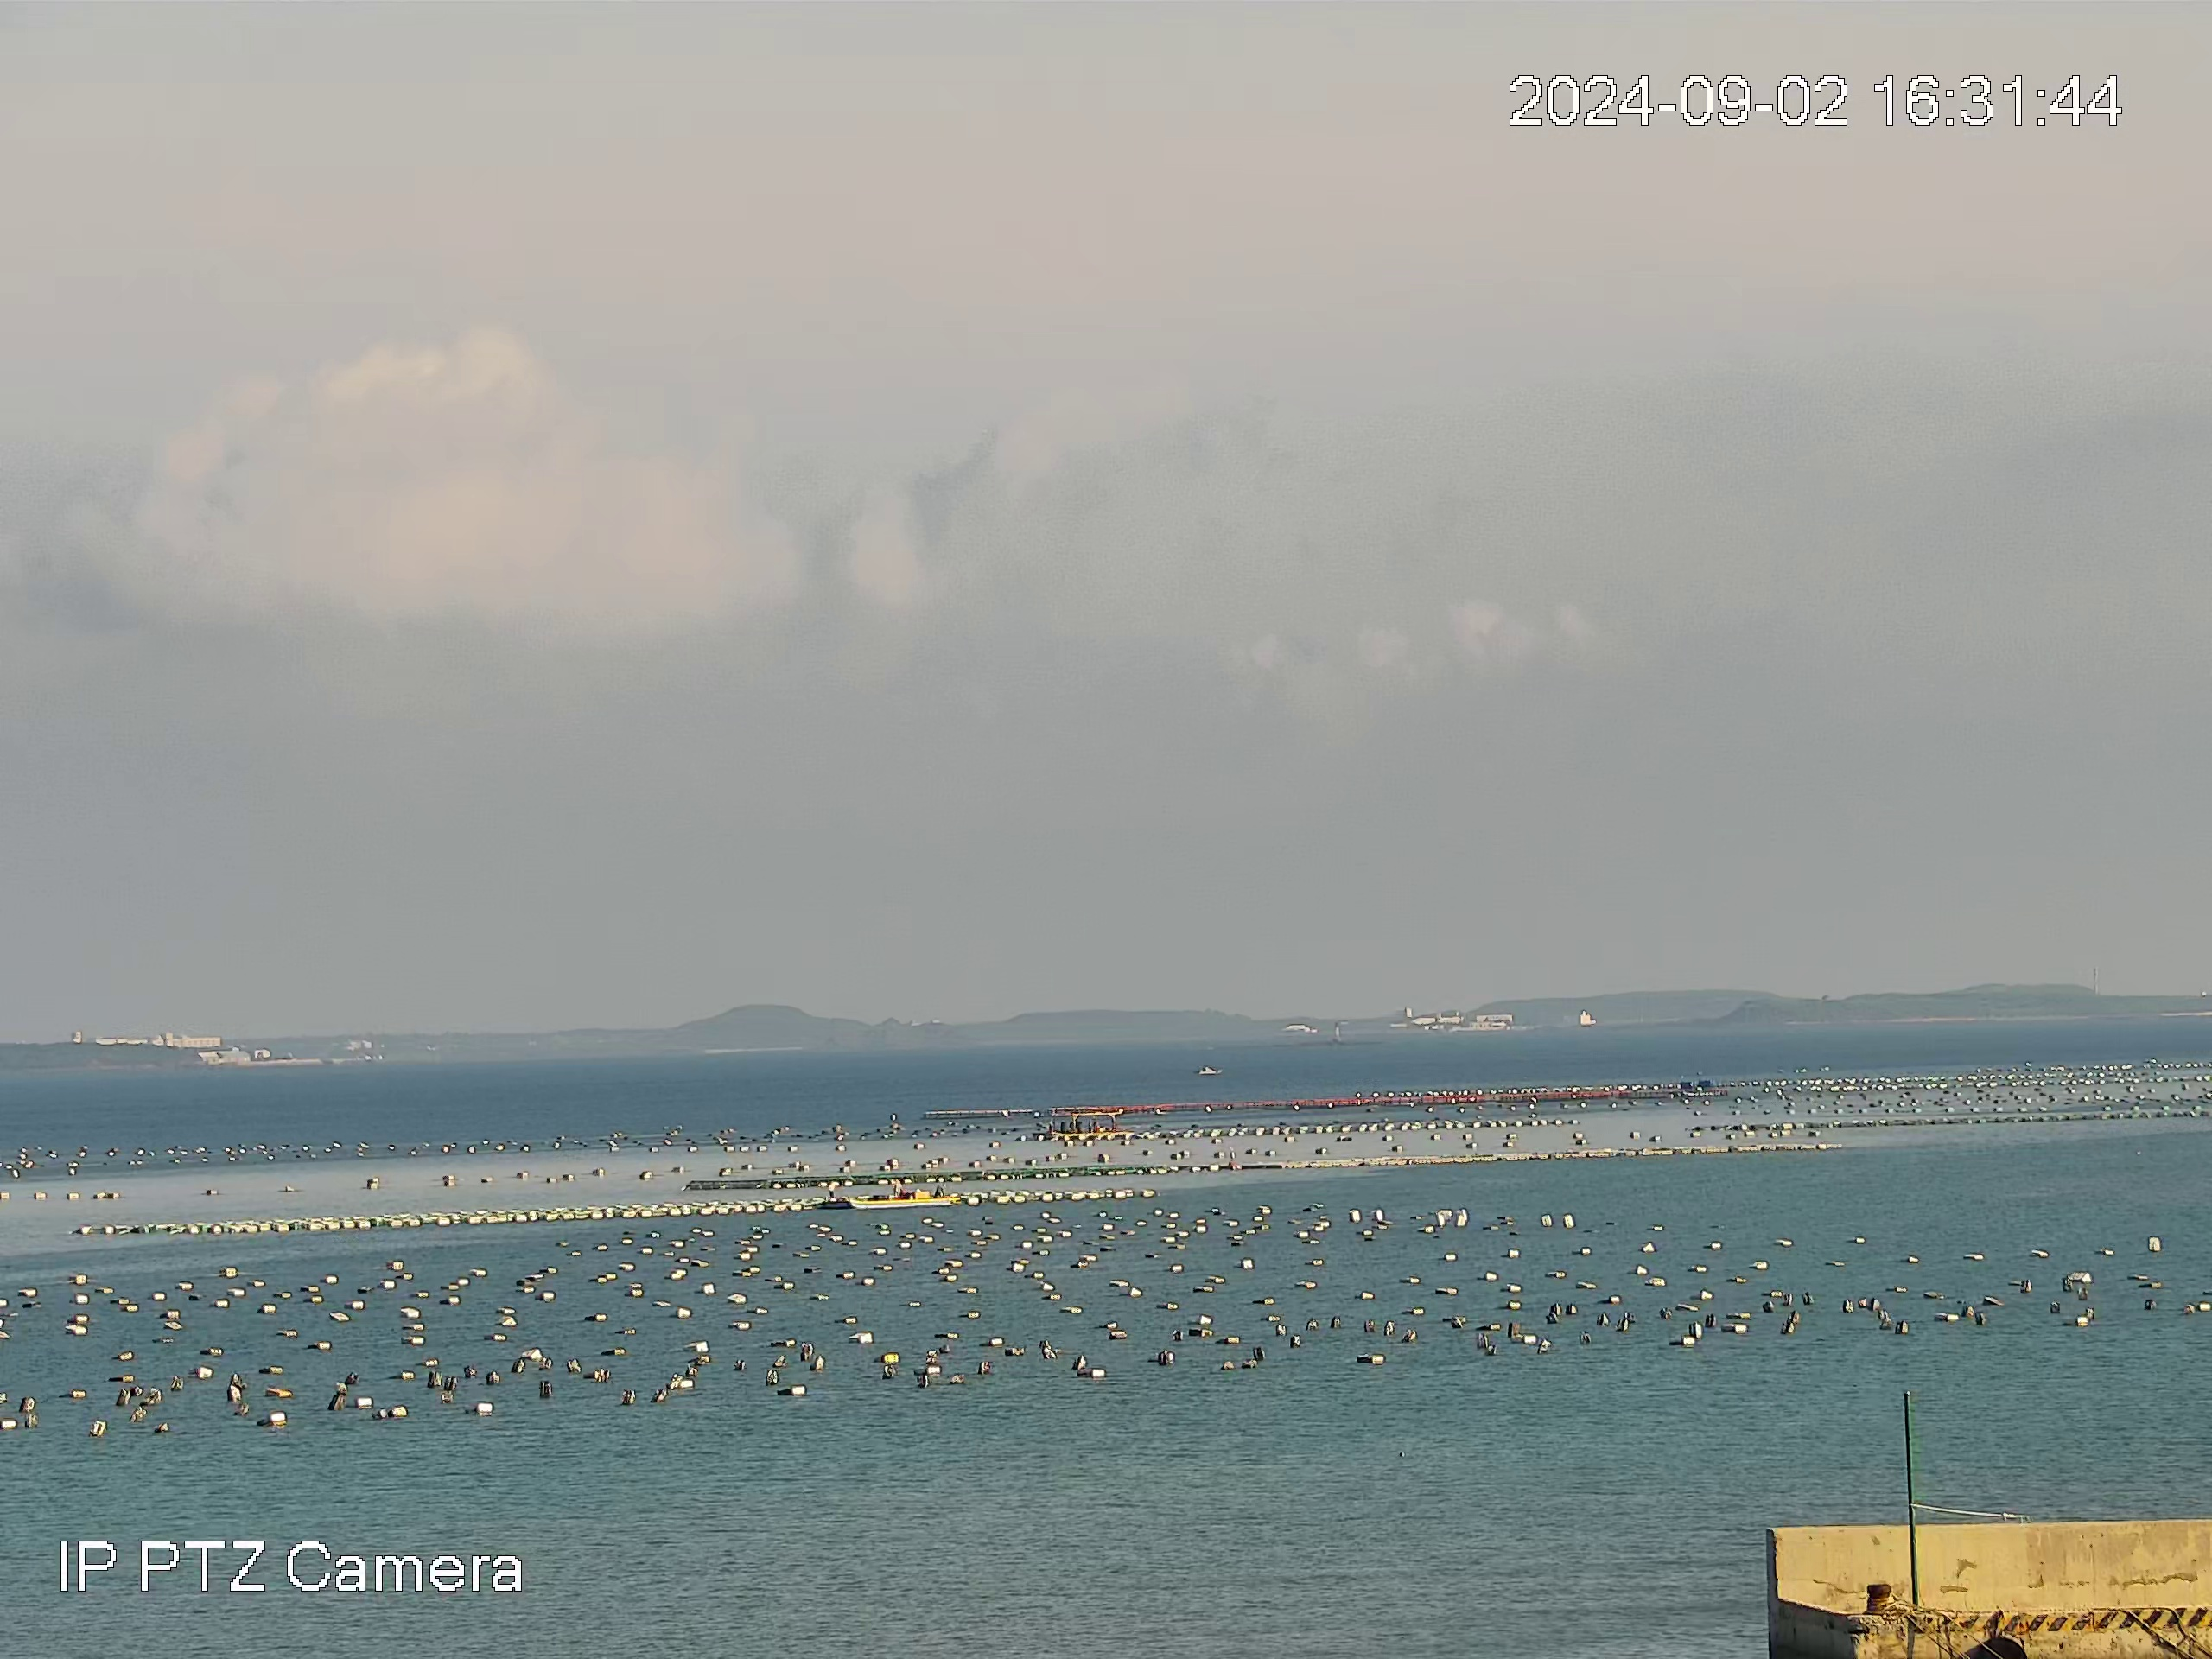boat: (845, 1178, 961, 1209), (1068, 1108, 1132, 1138), (1197, 1065, 1223, 1075)
